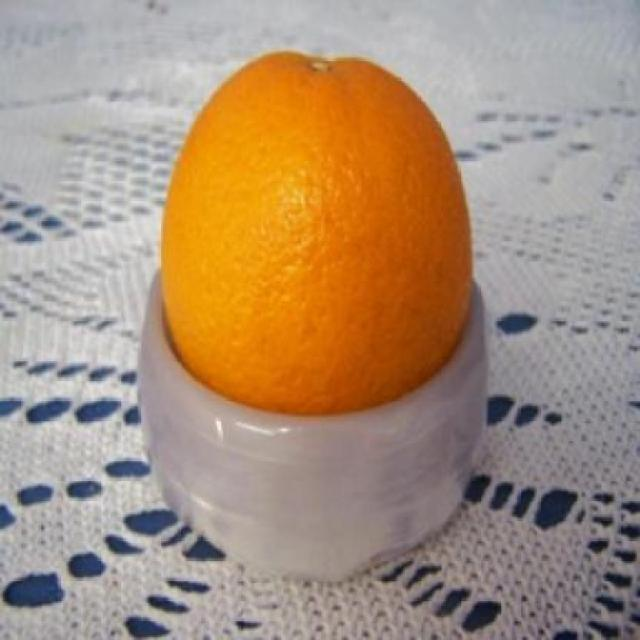Orange: (162, 47, 478, 407)
